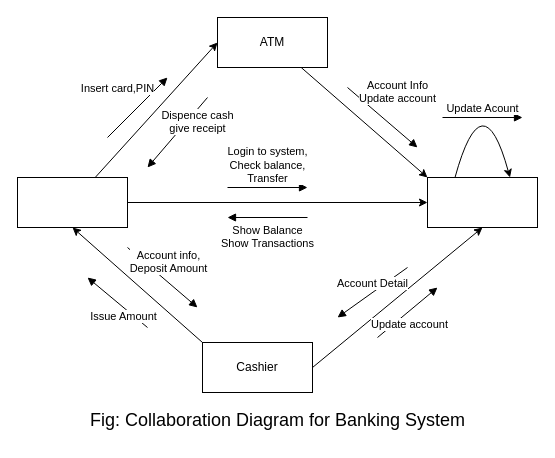
The diagram is 555 pixels wide and 458 high, and some of its shapes have lost their labels. Each missing label, with the centre of its shape:
"Banking System" belongs at [482,202].
"Customer" belongs at [72,202].
